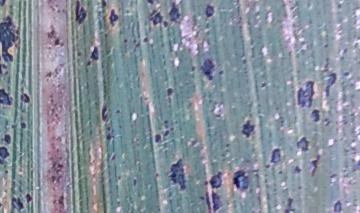tarspot: (1, 13, 23, 74), (168, 157, 188, 191), (294, 80, 315, 108), (231, 168, 250, 192), (322, 72, 337, 100), (73, 1, 90, 24), (199, 58, 215, 82), (1, 86, 14, 113), (167, 1, 182, 24), (240, 119, 255, 140), (211, 188, 223, 213), (147, 9, 164, 26), (309, 154, 321, 178), (107, 7, 120, 28), (208, 171, 224, 188), (9, 196, 25, 213), (295, 135, 309, 153), (269, 148, 283, 164), (283, 196, 296, 213), (99, 103, 110, 123), (1, 145, 11, 166), (331, 198, 343, 213), (204, 3, 215, 18), (204, 190, 211, 213), (89, 45, 99, 61), (18, 92, 31, 104), (152, 133, 163, 147), (311, 108, 320, 124), (292, 164, 303, 176), (322, 56, 330, 72), (2, 133, 12, 145), (24, 192, 33, 205), (165, 87, 175, 97), (18, 121, 27, 131), (104, 133, 114, 142), (109, 151, 117, 162), (259, 81, 267, 91), (52, 37, 60, 47), (163, 128, 170, 139), (216, 69, 225, 77), (44, 71, 53, 79), (132, 38, 140, 47), (132, 177, 138, 188), (161, 20, 169, 28), (144, 1, 156, 6), (341, 71, 351, 77), (222, 142, 232, 148), (100, 1, 107, 9), (141, 36, 149, 43), (190, 64, 197, 72), (121, 37, 128, 45), (1, 1, 8, 8), (335, 4, 342, 11), (114, 108, 121, 115), (322, 42, 329, 49), (162, 123, 169, 130), (199, 195, 205, 201), (162, 119, 169, 124)
